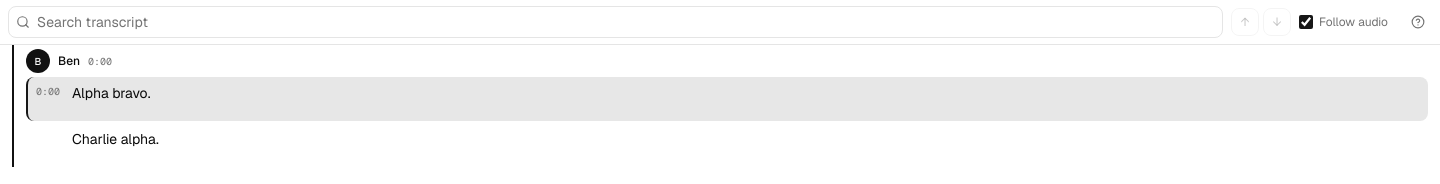
Scenario: TranscriptPanel › typing in search reveals the match counter
The image size is (1440, 184).
Type "alpha" into the search field labelled "Search transcript" at (616, 22), box x1=8 y1=6 x2=1223 y2=38
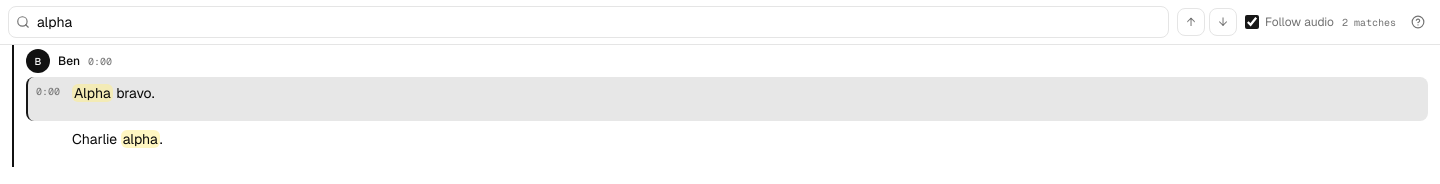
Expected: the message "2 matches" is shown, x1=1342 y1=14 x2=1396 y2=30
